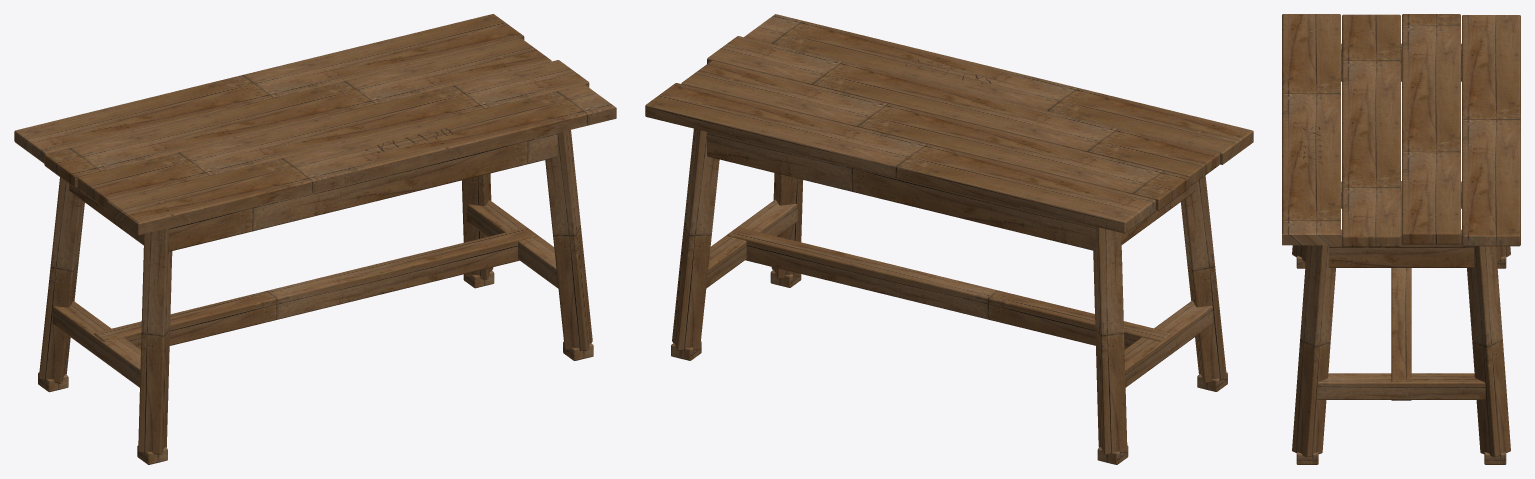
The model's file is camp_table.glb.
The picture shows the model from 3 angles, left to right: view 1: azimuth 30°, elevation 25°; view 2: azimuth 150°, elevation 25°; view 3: azimuth 270°, elevation 25°; orthographic projection. The views are drawn at different scales.
Visible parts, largest first — view 1: camp_table; view 2: camp_table; view 3: camp_table.
Boxes of the visible parts, x1,y1,x2,y2 form: camp_table: [14, 14, 616, 464]; camp_table: [645, 14, 1253, 464]; camp_table: [1282, 14, 1520, 464].
Size of the model in its own units: 1.58 by 0.7904 by 0.717.
3 materials, 1 textured.
